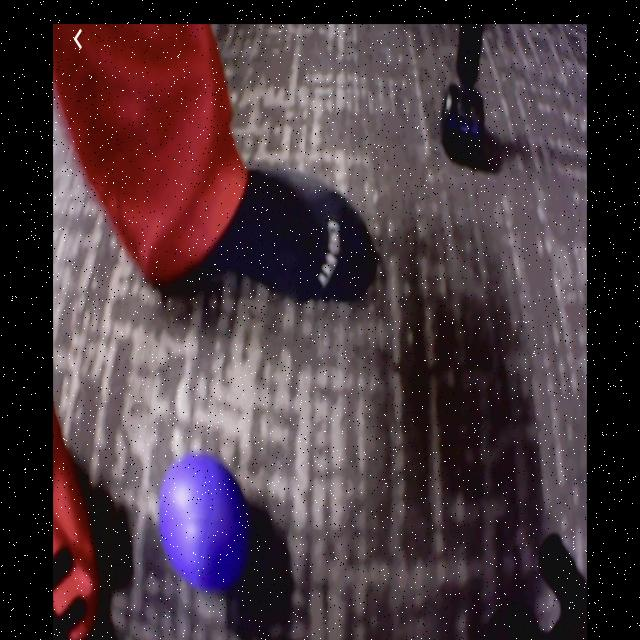ball: (165, 454, 253, 592)
